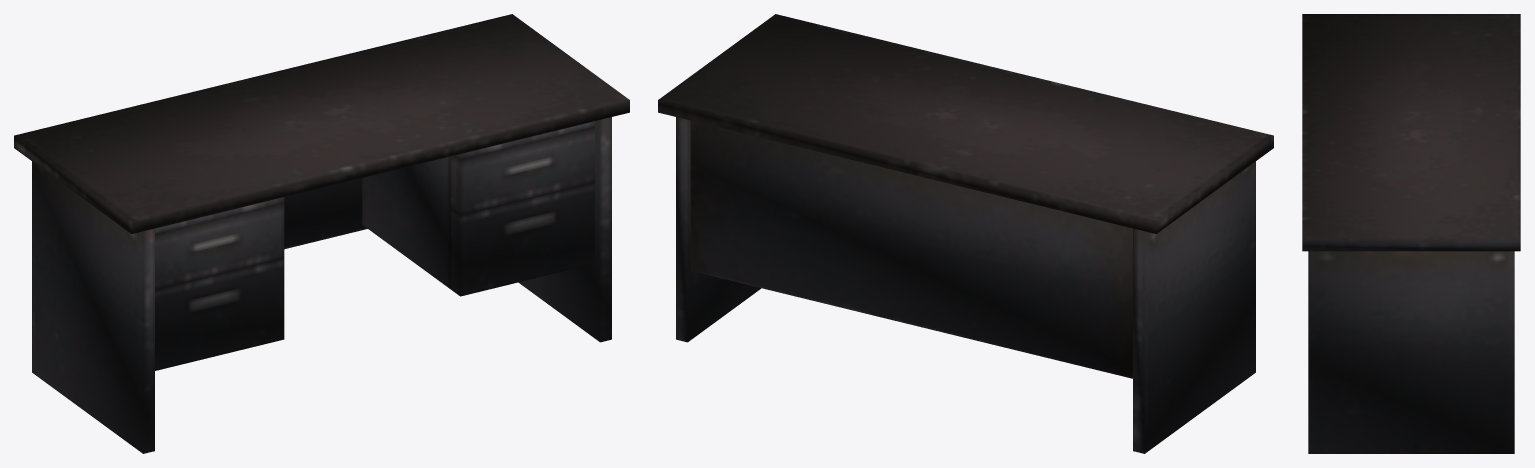
File: office-desk.glb
The picture shows the model from 3 angles, left to right: view 1: azimuth 30°, elevation 25°; view 2: azimuth 150°, elevation 25°; view 3: azimuth 270°, elevation 25°; orthographic projection. The views are drawn at different scales.
Parts seen in each view (by area): view 1: Cube.004; view 2: Cube.004; view 3: Cube.004.
Boxes of the visible parts, x1,y1,x2,y2 form: Cube.004: (14,14,629,453); Cube.004: (658,14,1273,453); Cube.004: (1302,14,1520,453).
Bounding box in the file's own units: 2.15 × 0.9841 × 0.8801.
1 material, 1 textured.
